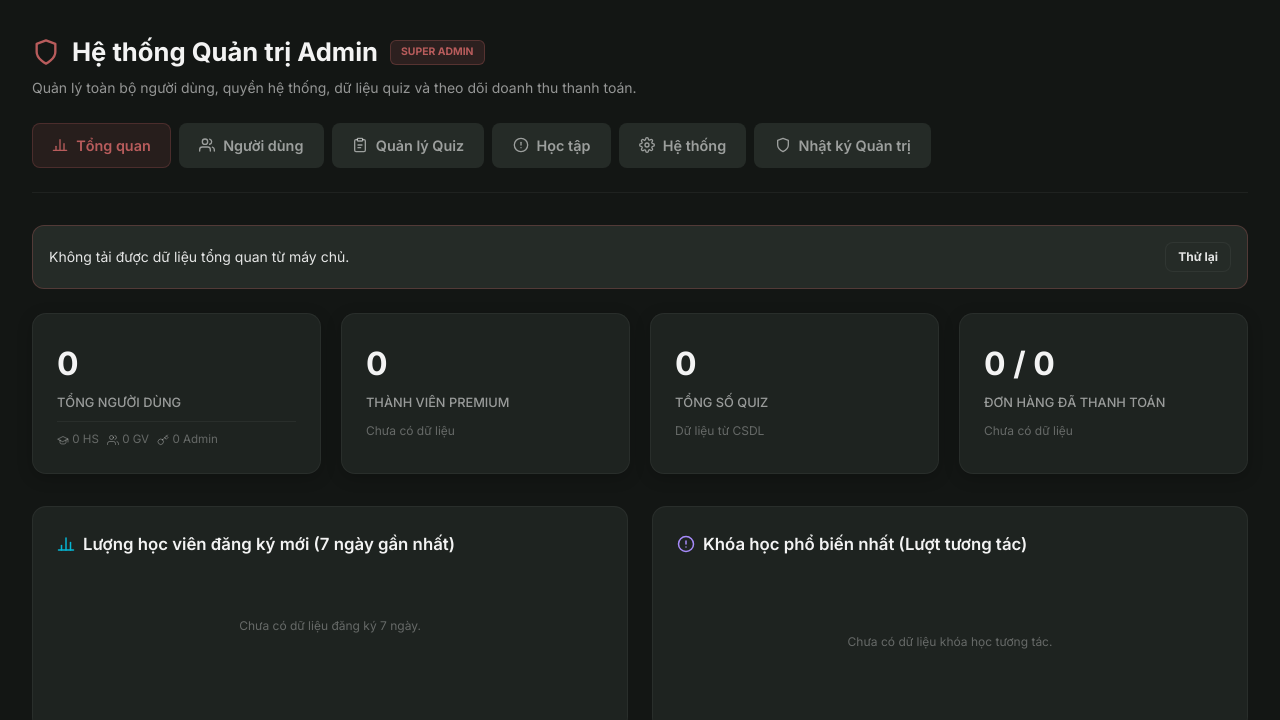
Test case: AdminPanelView — P0 Tests › System Status + Audit Log › renders system status info
Click the tab with class "tab-btn" showing "Hệ thống". click: [682, 145]
box: [619,123,746,168]
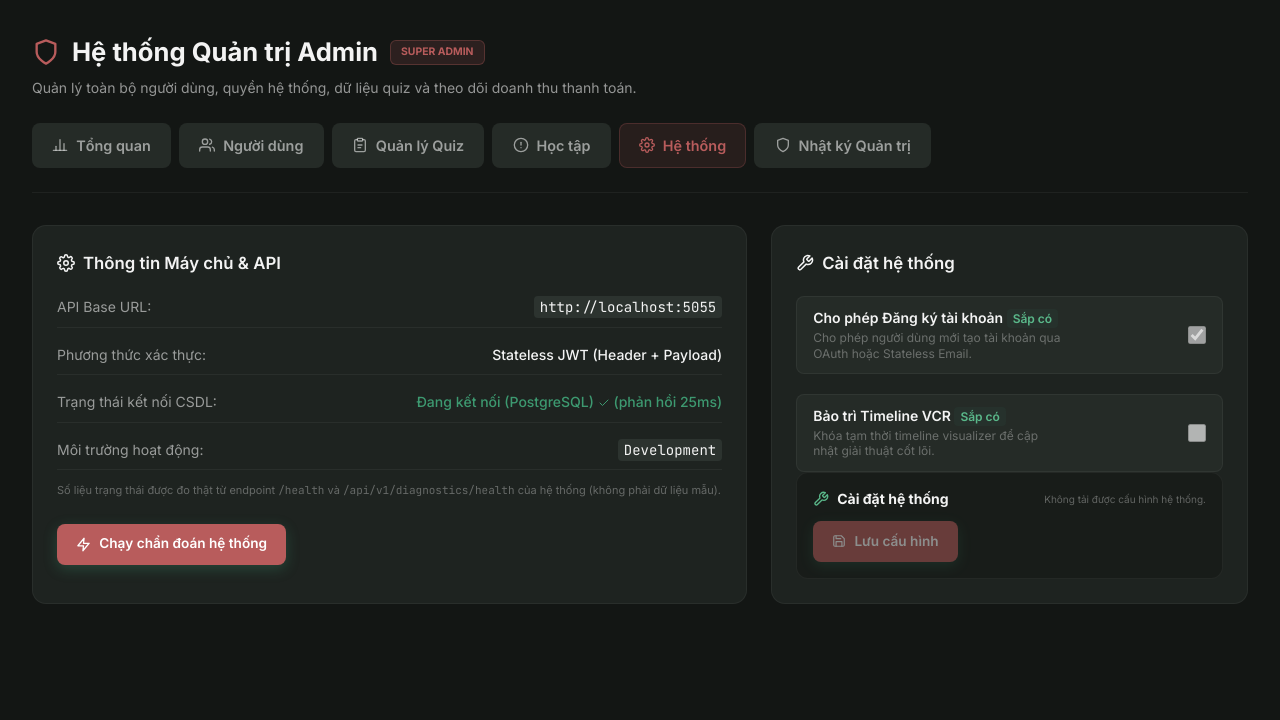
expect the text "API Base URL" is shown: met, box [57,298,151,315]
expect the text "Trạng thái kết nối CSDL" is shown: met, box [57,393,217,410]
expect the text "Đang kết nối (PostgreSQL)" is shown: met, box [416,393,598,410]
